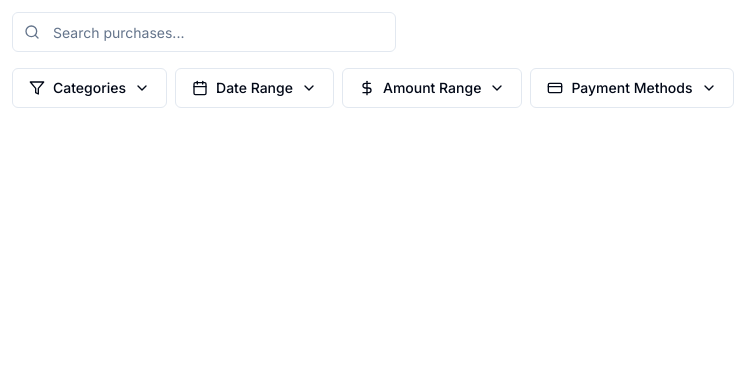
Scenario: PurchaseFilters › should open date range picker when clicked
Click the button "Date Range". click: click(254, 88)
box: [175,68,334,108]
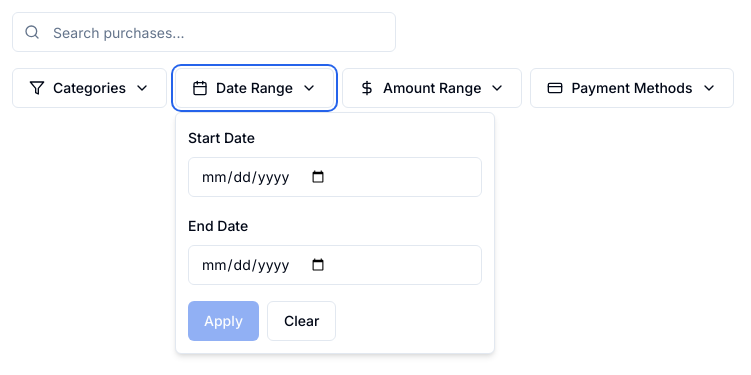
Check: the text "Start Date" is shown, box [188,129,255,146]
Check: the text "End Date" is shown, box [188,217,248,234]
